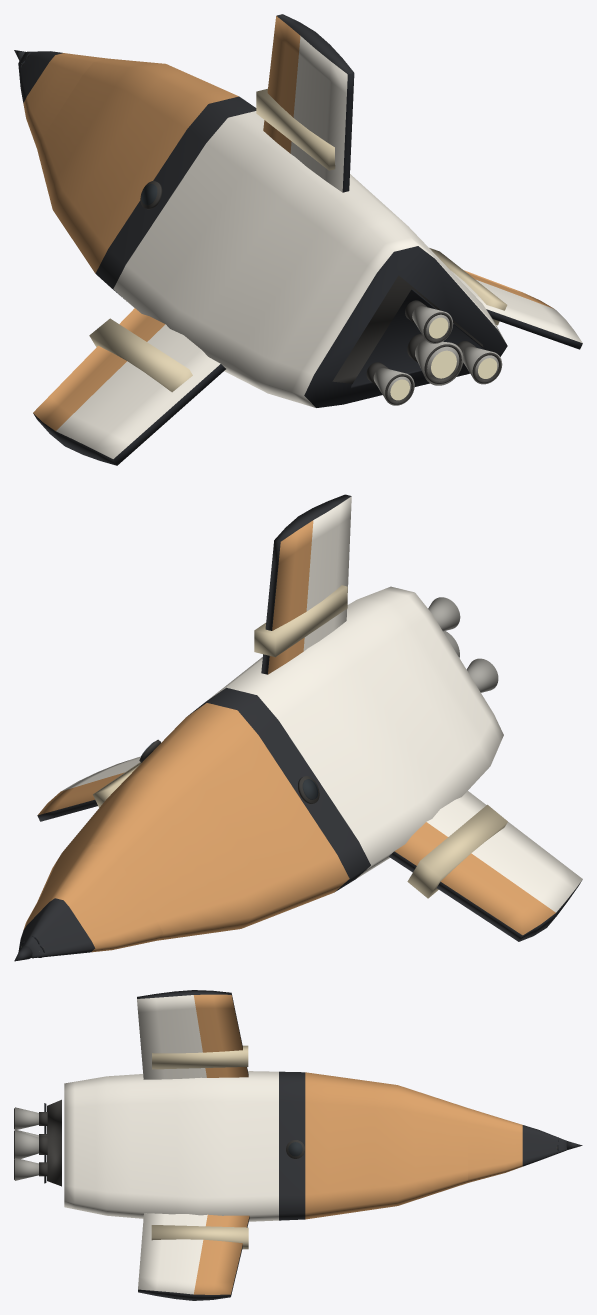
File: Ship_Standard_10.glb
3 renders of one model, top to bottom at view 1: azimuth 30°, elevation 25°; view 2: azimuth 150°, elevation 25°; view 3: azimuth 270°, elevation 25°, orthographic. The views are drawn at different scales.
Visible parts, largest first — view 1: Fuselage_RoundedTriangleTriFoldBody, Wing_LowerLeft_TriFoldCornerBladePaintedMesh, Wing_Dorsal_TriFoldCornerBladePaintedMesh, Nose_RoundedTriangleTaperedForwardSection, Wing_LowerRight_TriFoldCornerBladePaintedMesh, WingRootSocket_LowerLeft_IntegratedEmbeddedShoulder, EngineBlock_AftTriFoldTrimFrame, EngineBlock_AftTriangularIntegratedMountPlate, WingRootSocket_Dorsal_IntegratedEmbeddedShoulder, EngineEmitter, EngineBell_Center_BurnishedNozzle, WingRootSocket_LowerRight_IntegratedEmbeddedShoulder (+3 smaller); view 2: Fuselage_RoundedTriangleTriFoldBody, Wing_LowerLeft_TriFoldCornerBladePaintedMesh, Nose_RoundedTriangleTaperedForwardSection, Wing_Dorsal_TriFoldCornerBladePaintedMesh, WingRootSocket_LowerLeft_IntegratedEmbeddedShoulder, WingRootSocket_Dorsal_IntegratedEmbeddedShoulder, Wing_LowerRight_TriFoldCornerBladePaintedMesh, EngineBell_LowerLeft_BurnishedNozzle, EngineBell_Dorsal_BurnishedNozzle; view 3: Fuselage_RoundedTriangleTriFoldBody, Wing_Dorsal_TriFoldCornerBladePaintedMesh, Wing_LowerRight_TriFoldCornerBladePaintedMesh, Nose_RoundedTriangleTaperedForwardSection, WingRootSocket_Dorsal_IntegratedEmbeddedShoulder, WingRootSocket_LowerRight_IntegratedEmbeddedShoulder, EngineBlock_AftTriangularIntegratedMountPlate, EngineBell_Center_BurnishedNozzle, EngineBell_Dorsal_BurnishedNozzle, EngineBell_LowerRight_BurnishedNozzle.
Boxes of the visible parts, box(x1,y1,x2,y2) form: Fuselage_RoundedTriangleTriFoldBody: box(37, 58, 507, 407); Wing_LowerLeft_TriFoldCornerBladePaintedMesh: box(33, 308, 225, 465); Wing_Dorsal_TriFoldCornerBladePaintedMesh: box(263, 14, 354, 192); Nose_RoundedTriangleTaperedForwardSection: box(18, 51, 107, 148); Wing_LowerRight_TriFoldCornerBladePaintedMesh: box(451, 270, 582, 349); WingRootSocket_LowerLeft_IntegratedEmbeddedShoulder: box(89, 318, 192, 392); EngineBlock_AftTriFoldTrimFrame: box(351, 289, 485, 388); EngineBlock_AftTriangularIntegratedMountPlate: box(332, 275, 483, 383); WingRootSocket_Dorsal_IntegratedEmbeddedShoulder: box(256, 88, 335, 170); EngineEmitter: box(390, 317, 497, 400); EngineBell_Center_BurnishedNozzle: box(415, 340, 463, 385); WingRootSocket_LowerRight_IntegratedEmbeddedShoulder: box(429, 248, 507, 325); Fuselage_RoundedTriangleTriFoldBody: box(37, 586, 503, 940); Wing_LowerLeft_TriFoldCornerBladePaintedMesh: box(389, 791, 582, 941); Nose_RoundedTriangleTaperedForwardSection: box(18, 844, 163, 958); Wing_Dorsal_TriFoldCornerBladePaintedMesh: box(261, 494, 351, 674); WingRootSocket_LowerLeft_IntegratedEmbeddedShoulder: box(407, 804, 507, 898); WingRootSocket_Dorsal_IntegratedEmbeddedShoulder: box(254, 585, 347, 657); Wing_LowerRight_TriFoldCornerBladePaintedMesh: box(37, 756, 140, 821); EngineBell_LowerLeft_BurnishedNozzle: box(466, 658, 498, 692); EngineBell_Dorsal_BurnishedNozzle: box(428, 597, 460, 631); Fuselage_RoundedTriangleTriFoldBody: box(64, 1071, 467, 1221); Wing_Dorsal_TriFoldCornerBladePaintedMesh: box(137, 990, 248, 1079); Wing_LowerRight_TriFoldCornerBladePaintedMesh: box(138, 1213, 249, 1300); Nose_RoundedTriangleTaperedForwardSection: box(468, 1108, 566, 1182); WingRootSocket_Dorsal_IntegratedEmbeddedShoulder: box(152, 1045, 248, 1069); WingRootSocket_LowerRight_IntegratedEmbeddedShoulder: box(151, 1225, 248, 1249); EngineBlock_AftTriangularIntegratedMountPlate: box(47, 1099, 61, 1186); EngineBell_Center_BurnishedNozzle: box(15, 1130, 38, 1158); EngineBell_Dorsal_BurnishedNozzle: box(15, 1107, 38, 1130); EngineBell_LowerRight_BurnishedNozzle: box(15, 1158, 38, 1180).
Bounding box in the file's own units: 5.04 × 3.41 × 7.51.
